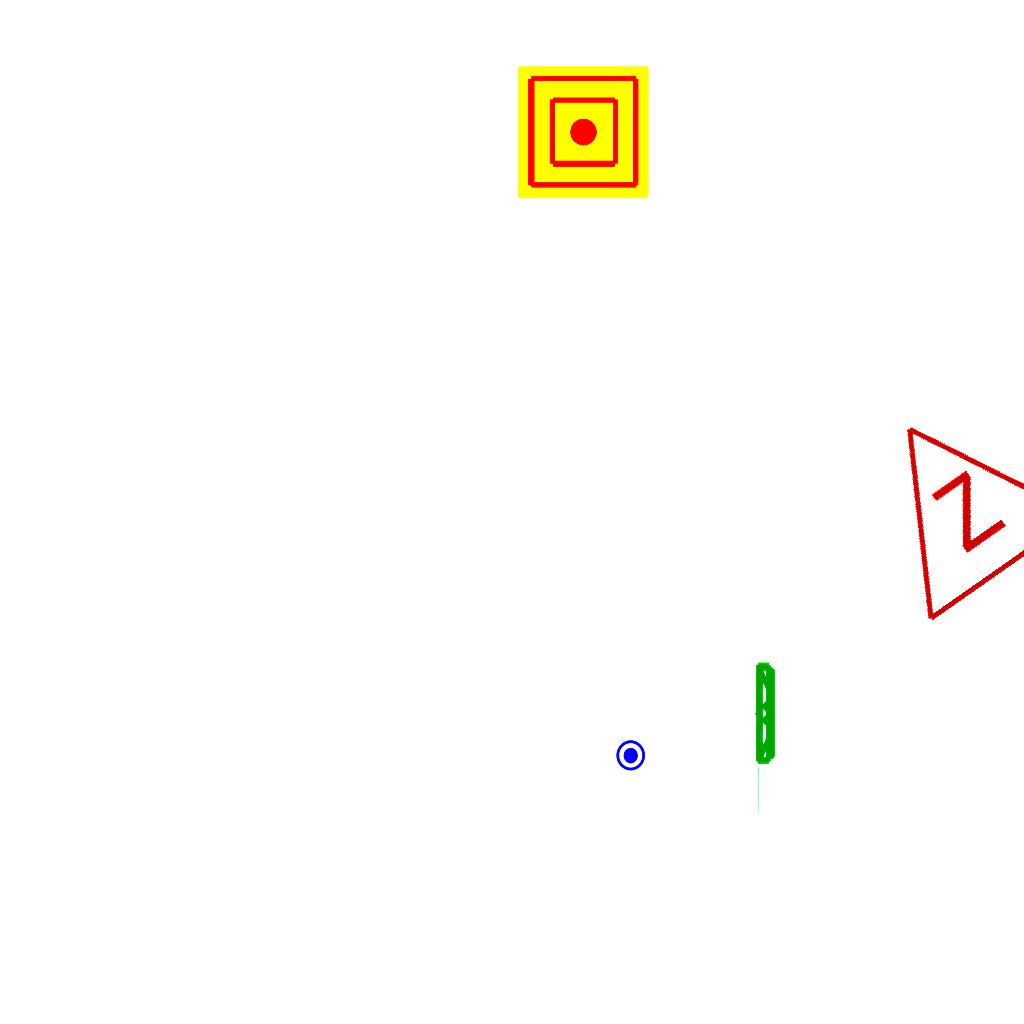NAM-Nichtautomatischer_Melder: (517, 66, 649, 198)
Sicherheitsleuchte_Wandeinbau: (754, 659, 779, 818)
Taster: (613, 739, 646, 772)
Zimmersignalleuchte: (818, 361, 1024, 639)
